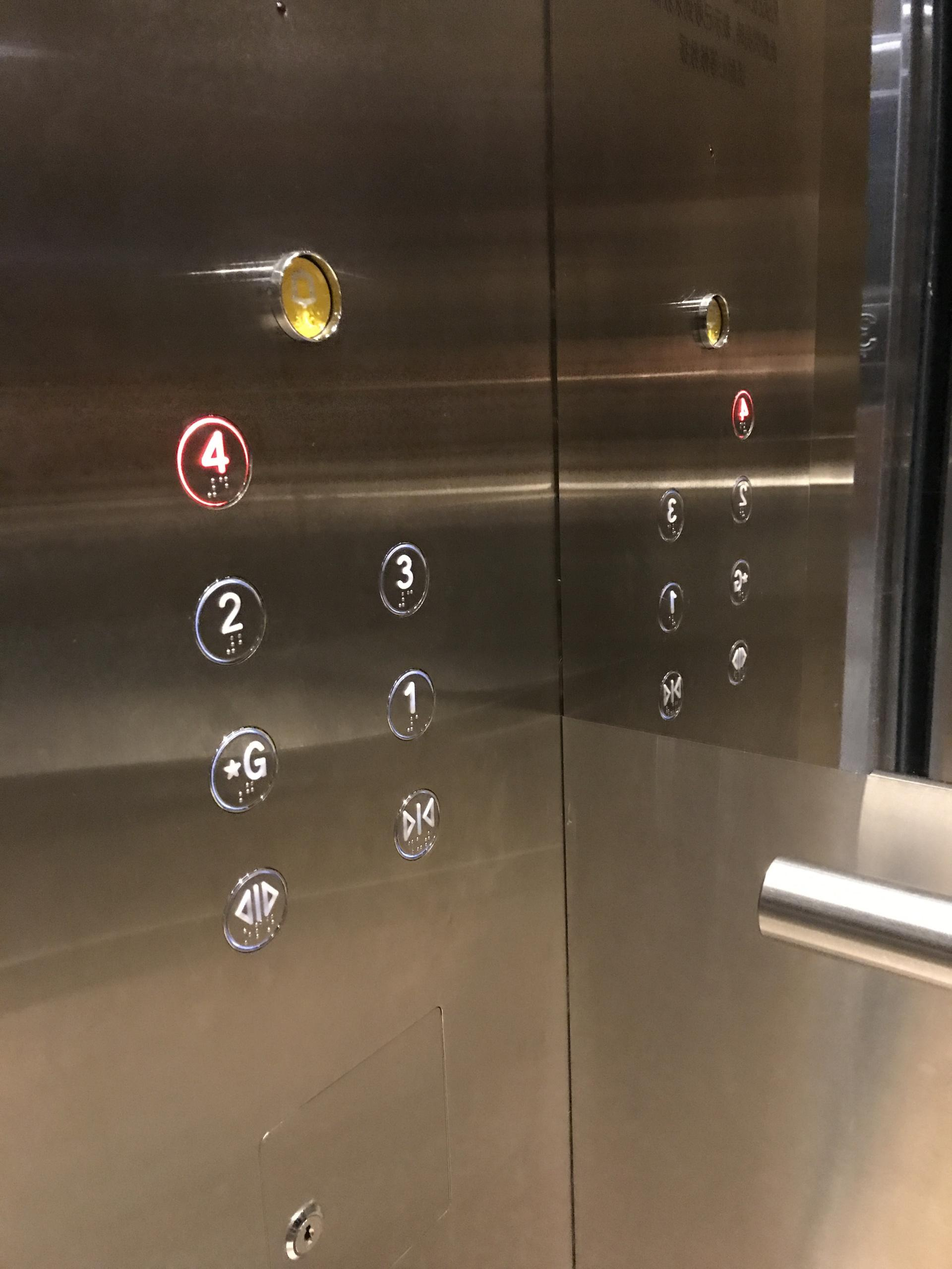1: (383, 666, 437, 741)
2: (191, 576, 269, 668)
3: (373, 540, 433, 618)
4: (172, 413, 254, 512)
alarm: (272, 244, 346, 343), (696, 289, 732, 348)
close: (389, 785, 444, 859), (655, 667, 684, 720)
keyhole: (279, 1201, 330, 1260)
open: (216, 865, 291, 954), (723, 634, 751, 687)
unknown: (205, 723, 279, 813), (654, 579, 687, 634), (653, 487, 686, 542), (727, 473, 755, 525), (726, 556, 754, 608), (730, 387, 756, 441)
